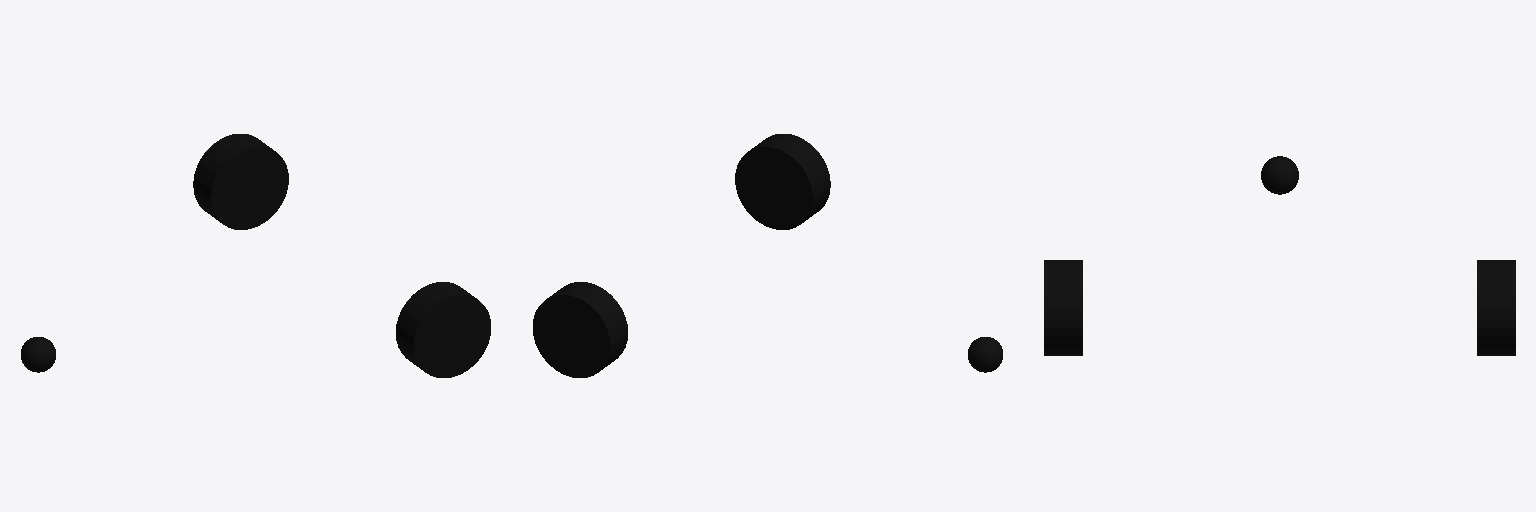
The robot description file, URDF, robot "my_robot":
<?xml version="1.0"?>
<!-- asimawari.stl から作成。座標系: base_link = 左右駆動輪の車軸中点、前方 = +X、左 = +Y、上 = +Z。
     【仮定値】駆動輪: 半径 0.05 m / 左右間隔 0.45 m / 後ろ(STLの-Y側)のユニットは受動キャスター扱い。
     実機寸法が違う場合は下の wheel_radius / wheel_y を修正し、controllers.yaml も揃えること。 -->
<robot name="my_robot">

  <!-- 数値パラメータ(参照用。コメントの値と下の記述を一致させる) -->
  <!-- wheel_radius=0.05  wheel_y=0.225  -->

  <link name="base_link">
    <visual>
      <origin xyz="0 0 0" rpy="0 0 0"/>
      <geometry>
        <mesh filename="package://my_robot_sim/meshes/body2.stl"/>
      </geometry>
      <material name="gray"><color rgba="0.6 0.6 0.65 1"/></material>
    </visual>
    <!-- 衝突形状: 本体は単純なボックス(動く物体に凹メッシュは不安定なため) -->
    <collision>
      <origin xyz="-0.15 0 0.065" rpy="0 0 0"/>
      <geometry><box size="0.60 0.56 0.13"/></geometry>
    </collision>
    <inertial>
      <origin xyz="-0.15 0 0.03" rpy="0 0 0"/>
      <mass value="8.0"/>
      <inertia ixx="0.25" ixy="0" ixz="0" iyy="0.30" iyz="0" izz="0.50"/>
    </inertial>
  </link>

  <!-- 左車輪 (STLの x=-225mm 側) -->
  <link name="left_wheel">
    <visual>
      <origin xyz="0 0 0" rpy="1.5708 0 0"/>
      <geometry><cylinder radius="0.05" length="0.04"/></geometry>
      <material name="black"><color rgba="0.1 0.1 0.1 1"/></material>
    </visual>
    <collision>
      <origin xyz="0 0 0" rpy="1.5708 0 0"/>
      <geometry><cylinder radius="0.05" length="0.04"/></geometry>
    </collision>
    <inertial>
      <mass value="0.3"/>
      <inertia ixx="0.0004" ixy="0" ixz="0" iyy="0.0004" iyz="0" izz="0.0004"/>
    </inertial>
  </link>
  <joint name="left_wheel_joint" type="continuous">
    <parent link="base_link"/>
    <child link="left_wheel"/>
    <origin xyz="0 0.225 0" rpy="0 0 0"/>
    <axis xyz="0 1 0"/>
  </joint>

  <!-- 右車輪 (STLの x=+225mm 側) -->
  <link name="right_wheel">
    <visual>
      <origin xyz="0 0 0" rpy="1.5708 0 0"/>
      <geometry><cylinder radius="0.05" length="0.04"/></geometry>
      <material name="black"/>
    </visual>
    <collision>
      <origin xyz="0 0 0" rpy="1.5708 0 0"/>
      <geometry><cylinder radius="0.05" length="0.04"/></geometry>
    </collision>
    <inertial>
      <mass value="0.3"/>
      <inertia ixx="0.0004" ixy="0" ixz="0" iyy="0.0004" iyz="0" izz="0.0004"/>
    </inertial>
  </link>
  <joint name="right_wheel_joint" type="continuous">
    <parent link="base_link"/>
    <child link="right_wheel"/>
    <origin xyz="0 -0.225 0" rpy="0 0 0"/>
    <axis xyz="0 1 0"/>
  </joint>

  <!-- 後ろの受動キャスター (STLの y=-200mm → x=-0.39 m)。摩擦ゼロの球 -->
  <link name="rear_caster">
    <collision>
      <geometry><sphere radius="0.02"/></geometry>
    </collision>
    <visual>
      <geometry><sphere radius="0.02"/></geometry>
      <material name="black"/>
    </visual>
    <inertial>
      <mass value="0.1"/>
      <inertia ixx="0.00001" ixy="0" ixz="0" iyy="0.00001" iyz="0" izz="0.00001"/>
    </inertial>
  </link>
  <joint name="rear_caster_joint" type="fixed">
    <parent link="base_link"/>
    <child link="rear_caster"/>
    <origin xyz="-0.39 0 -0.03" rpy="0 0 0"/>
  </joint>
  <gazebo reference="rear_caster">
    <mu1>0.0</mu1>
    <mu2>0.0</mu2>
  </gazebo>

  <ros2_control name="GazeboSystem" type="system">
    <hardware>
      <plugin>gz_ros2_control/GazeboSimSystem</plugin>
    </hardware>
    <joint name="left_wheel_joint">
      <command_interface name="velocity"/>
      <state_interface name="position"/>
      <state_interface name="velocity"/>
    </joint>
    <joint name="right_wheel_joint">
      <command_interface name="velocity"/>
      <state_interface name="position"/>
      <state_interface name="velocity"/>
    </joint>
  </ros2_control>

  <gazebo>
    <plugin filename="gz_ros2_control-system"
            name="gz_ros2_control::GazeboSimROS2ControlPlugin">
      <parameters>CONTROLLERS_YAML</parameters>
    </plugin>
  </gazebo>

</robot>

--- Facts derived from the render (not from the file) ---
3 views of the same robot in one strip: view 1: azimuth 30°, elevation 25°; view 2: azimuth 150°, elevation 25°; view 3: azimuth 270°, elevation 25° (orthographic).
Model my_robot with 4 links and 3 joints (2 continuous, 1 fixed), rooted at base_link, posed every joint at zero.
Links seen in each view (by area): view 1: left_wheel, right_wheel, rear_caster; view 2: right_wheel, left_wheel, rear_caster; view 3: left_wheel, right_wheel, rear_caster.
Boxes of the visible links, bbox=[...] form: left_wheel: bbox=[193, 134, 288, 229]; right_wheel: bbox=[396, 282, 490, 377]; rear_caster: bbox=[21, 337, 55, 372]; right_wheel: bbox=[735, 134, 830, 229]; left_wheel: bbox=[533, 282, 627, 377]; rear_caster: bbox=[968, 337, 1002, 372]; left_wheel: bbox=[1477, 260, 1515, 355]; right_wheel: bbox=[1044, 260, 1082, 355]; rear_caster: bbox=[1261, 156, 1298, 194].
Bounding box of the posed robot: 0.46 × 0.49 × 0.1 m (x, y, z).
Meshes: 1 distinct files referenced, 0 mesh visuals loaded (none loaded); not drawn: 1 (reference not matched to a file when rendering).
